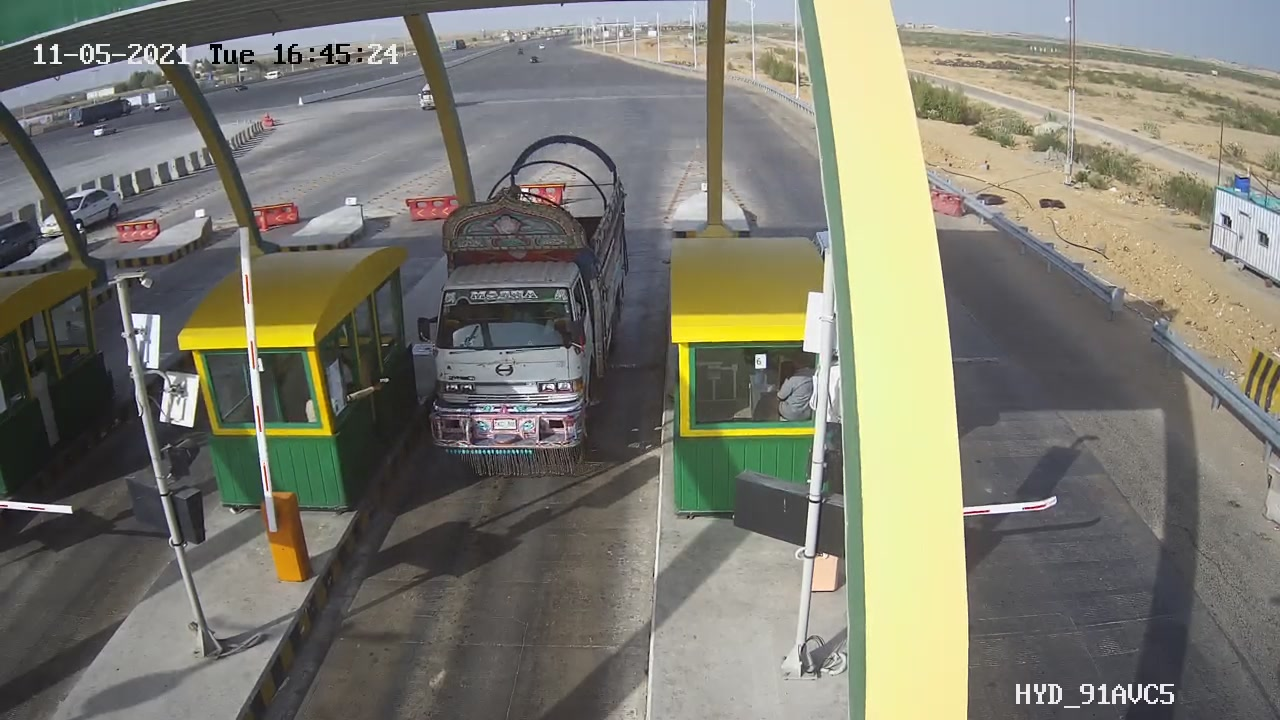F5: (400, 116, 657, 489)
